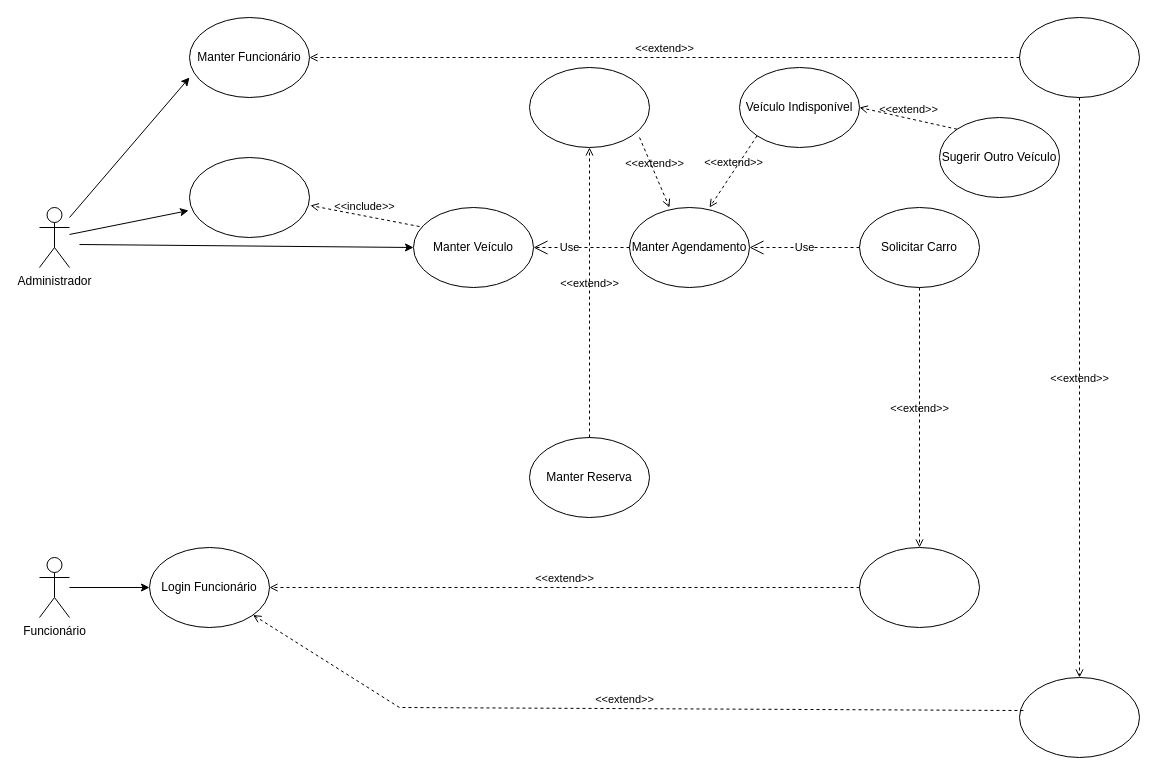
Image size: 1157x775. Some labels were removed from this diagram. Each missing label, with the centre of its shape:
"Cadastrar Perfil" belongs at point 1079,57.
"Login Admin" belongs at point 249,197.
"Não tem Perfil" belongs at point 1079,717.
"Tem seu Perfil" belongs at point 919,587.
"Veículo Disponível" belongs at point 589,107.
